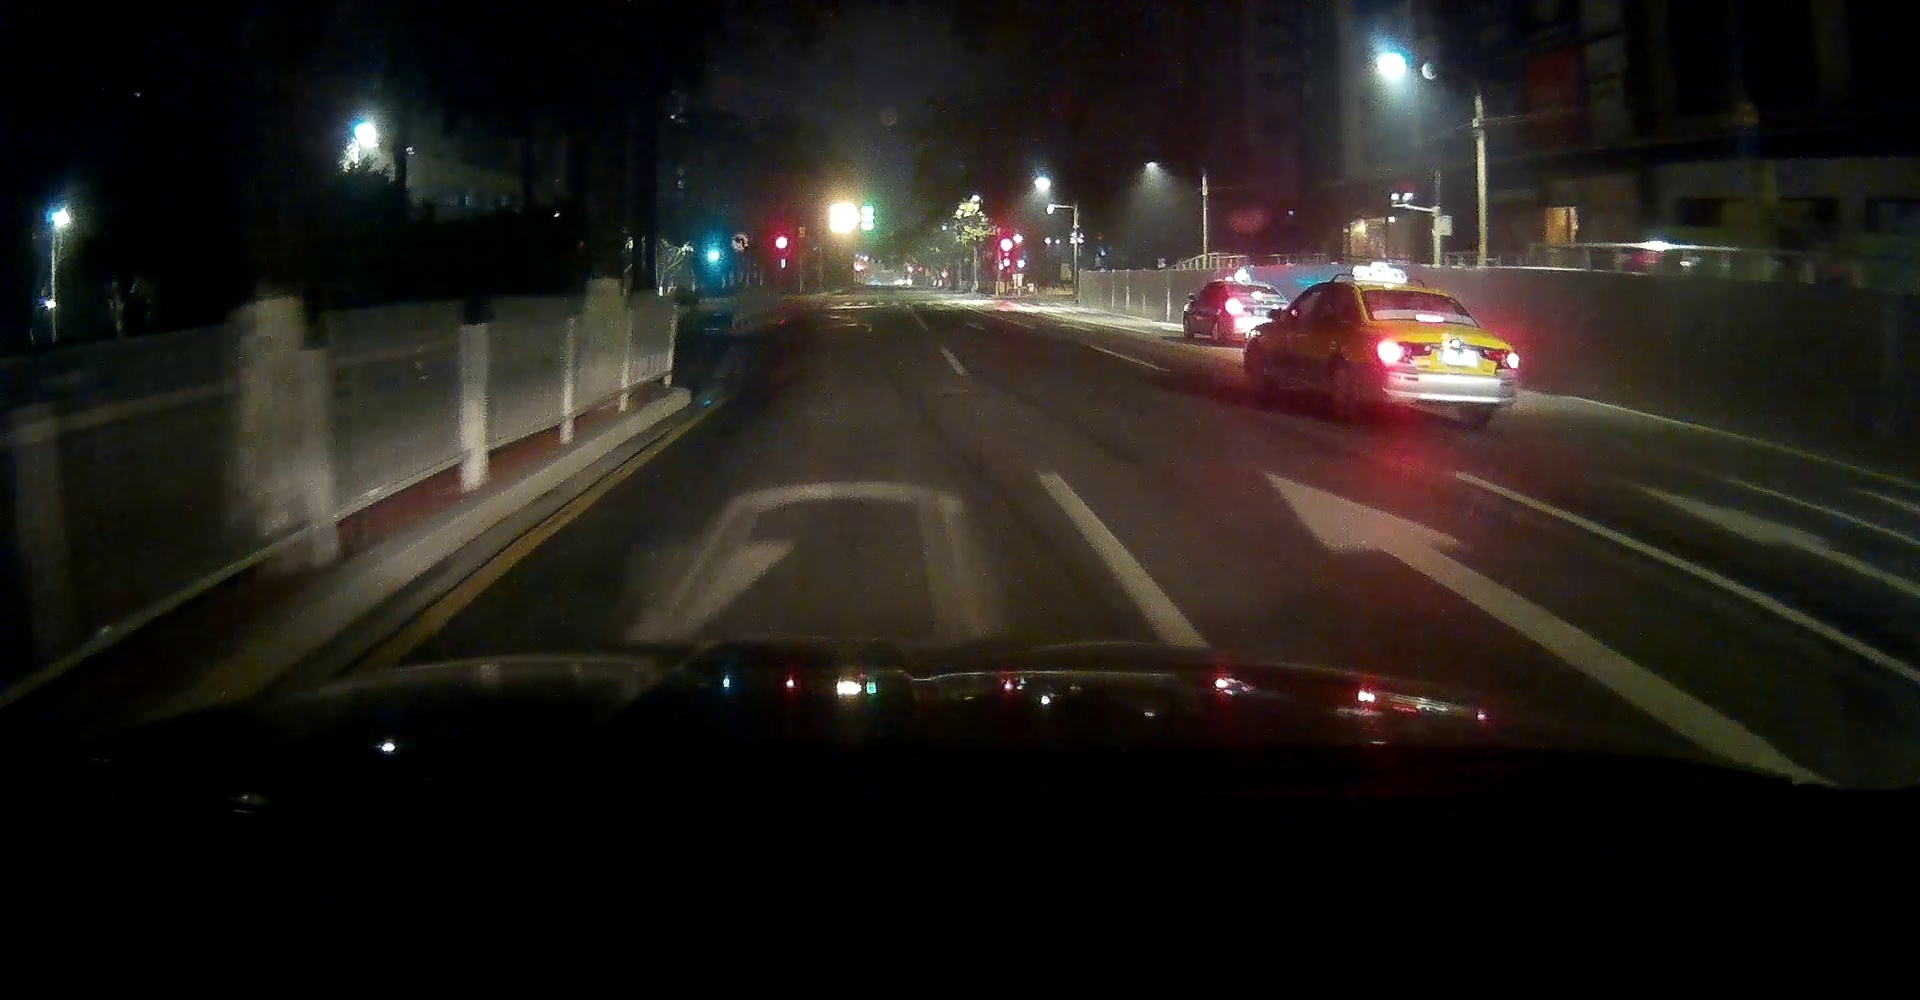L_light: (1375, 339, 1432, 367)
R_light: (1481, 346, 1520, 371)
T_light: (1415, 313, 1445, 324)
night-no: (1355, 284, 1521, 428)
